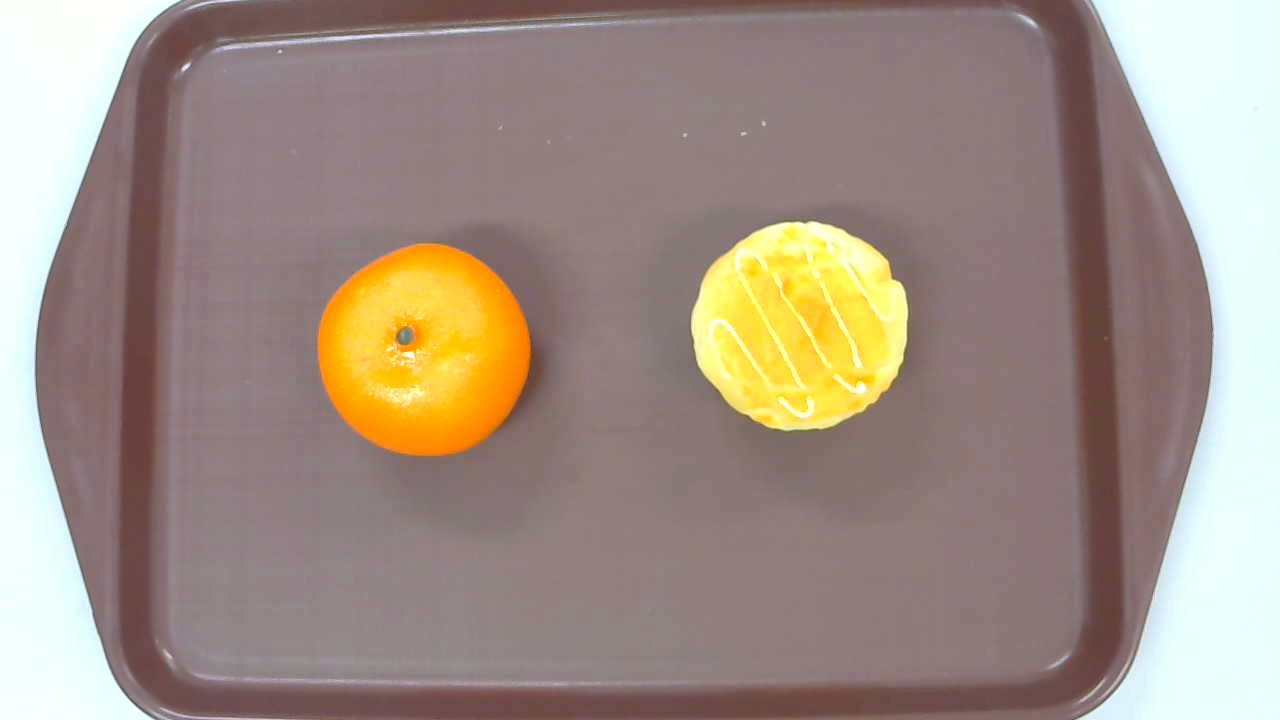cupcake: (689, 221, 907, 431)
orange: (315, 243, 532, 457)
